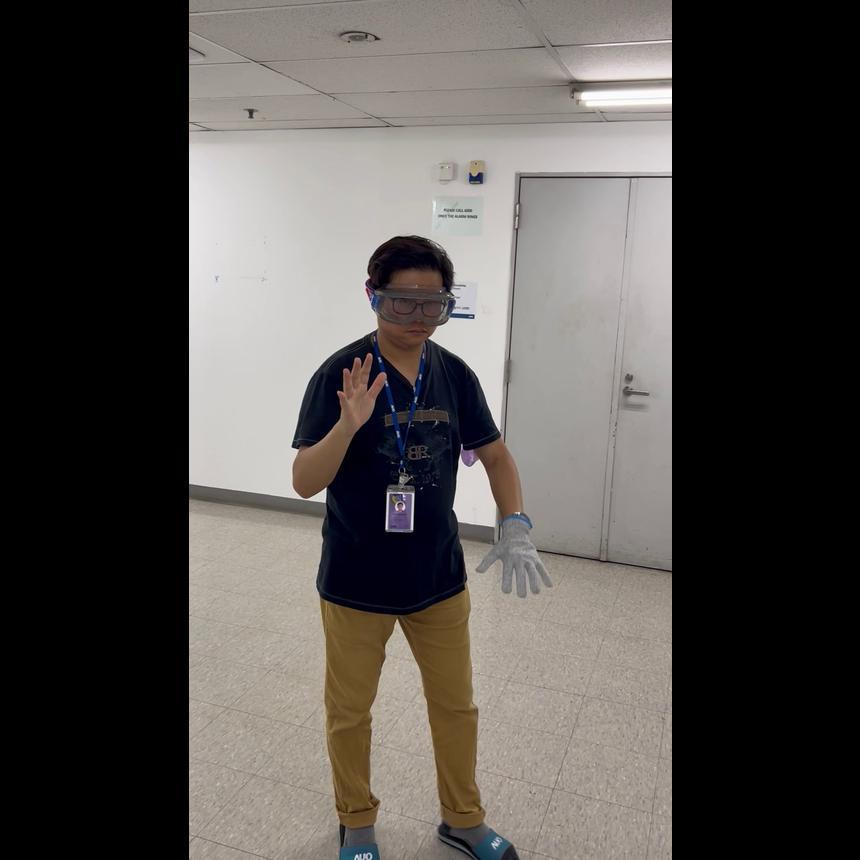Gloves: (475, 512, 551, 596)
No-gloves: (332, 350, 386, 429)
